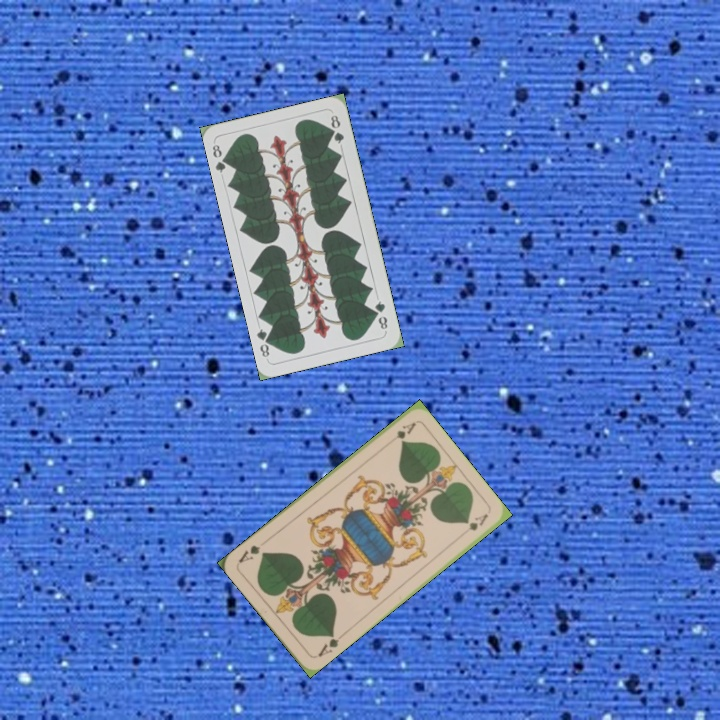G8: (208, 140, 232, 175), (371, 297, 390, 334)
GA: (383, 418, 418, 448), (313, 629, 342, 660)
